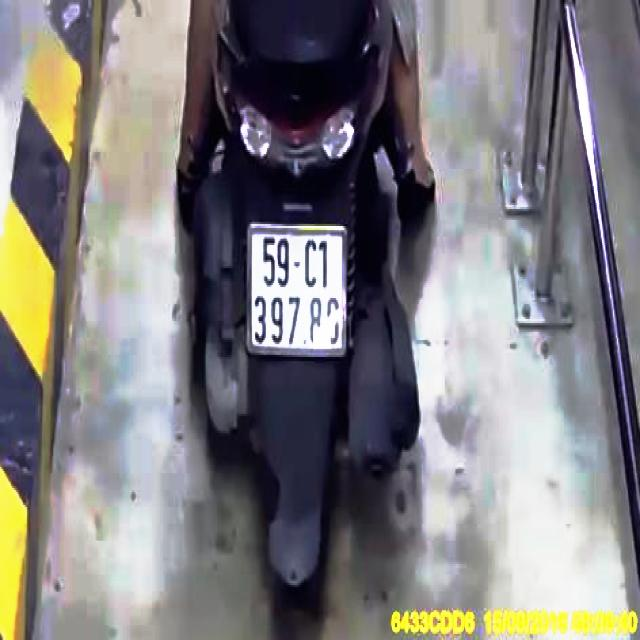license_plate: (250, 228, 345, 356)
